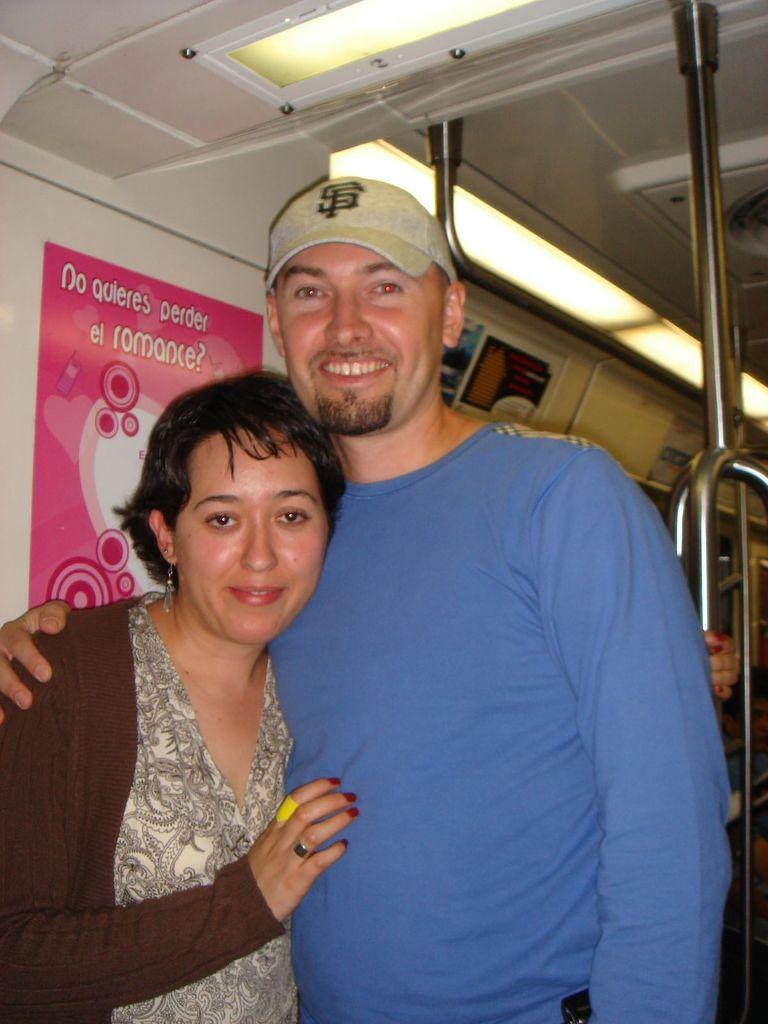Hat: (266, 173, 456, 294)
